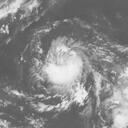cyclone: (38, 41, 93, 100)
